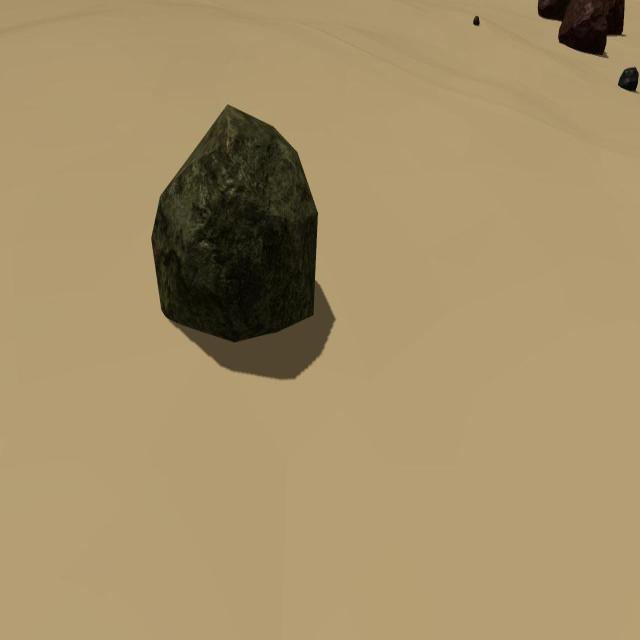rock: (151, 103, 318, 343), (536, 0, 624, 39), (558, 0, 606, 57), (618, 65, 638, 92), (472, 14, 480, 27)
